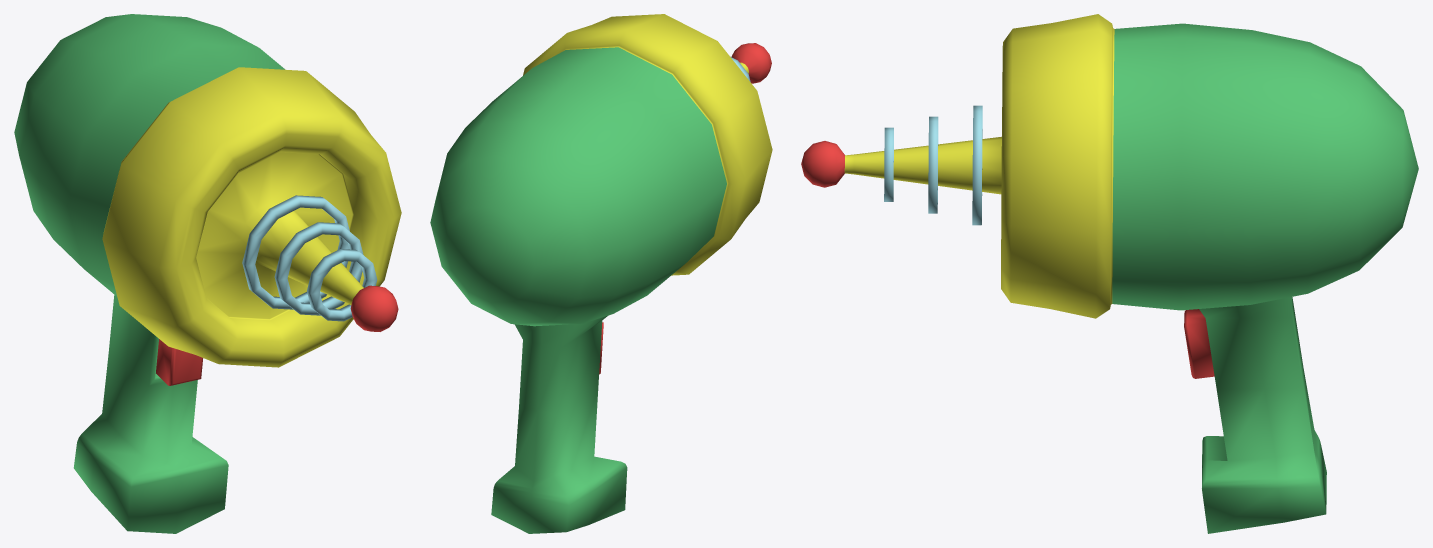
Rendered from Arma Alien.glb.
The picture shows the model from 3 angles, left to right: view 1: azimuth 30°, elevation 25°; view 2: azimuth 150°, elevation 25°; view 3: azimuth 270°, elevation 25°; orthographic projection. The views are drawn at different scales.
Parts seen in each view (by area): view 1: Arma Alien; view 2: Arma Alien; view 3: Arma Alien.
Part boxes in pixels (x1,y1,x2,y2): Arma Alien: [14, 14, 401, 533]; Arma Alien: [430, 14, 772, 533]; Arma Alien: [801, 14, 1418, 533].
Bounding box in the file's own units: 0.1495 × 0.2687 × 0.3023.
